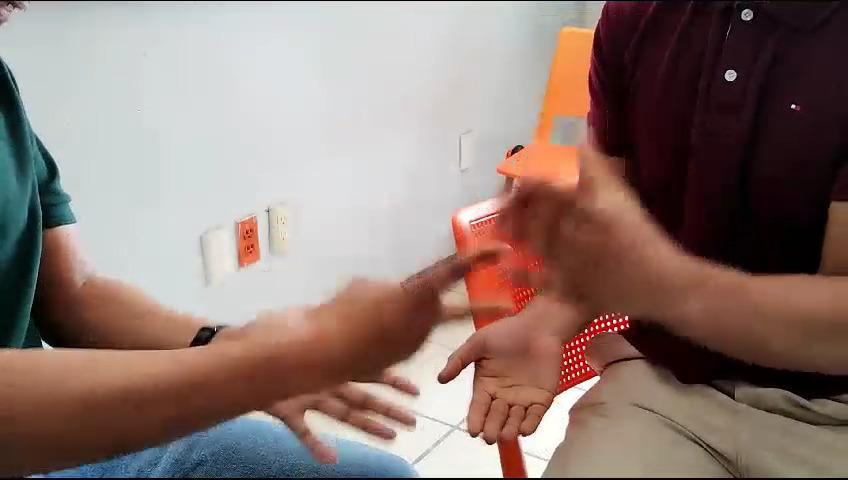Paper: (435, 321, 573, 459)
Scissor: (282, 236, 522, 392)
